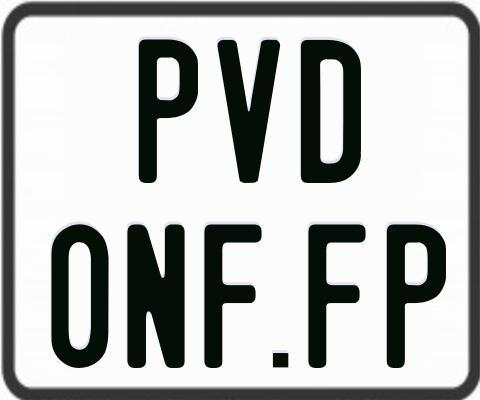0: (49, 222, 108, 370)
D: (298, 39, 364, 183)
F: (201, 221, 264, 366), (307, 224, 365, 374)
N: (127, 222, 191, 369)
P: (386, 223, 448, 372), (138, 38, 197, 185)
V: (217, 40, 285, 188)
